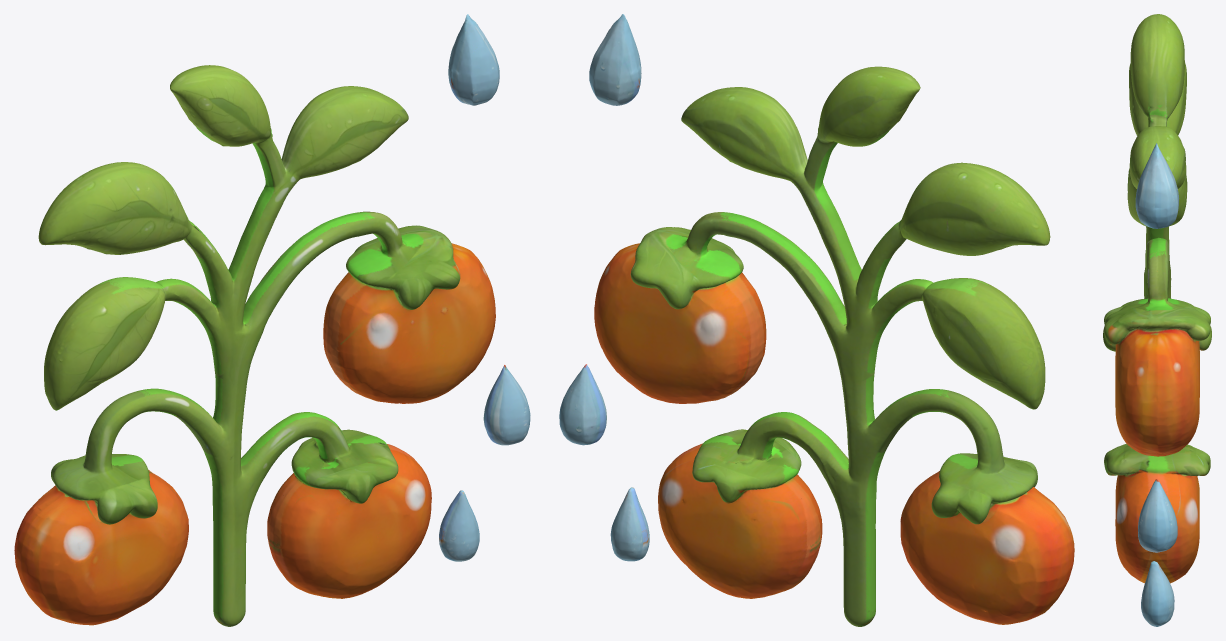
File: Tomato_over watered.glb
3 views of the same model, side by side, from view 1: azimuth 30°, elevation 25°; view 2: azimuth 150°, elevation 25°; view 3: azimuth 270°, elevation 25° (orthographic). The views are drawn at different scales.
Size of the model in its own units: 1.89 by 2 by 0.3945.
1 material, 1 textured.
